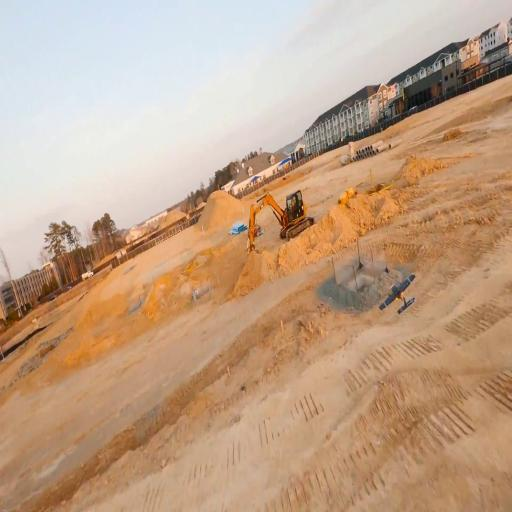uav: (377, 272, 419, 318)
